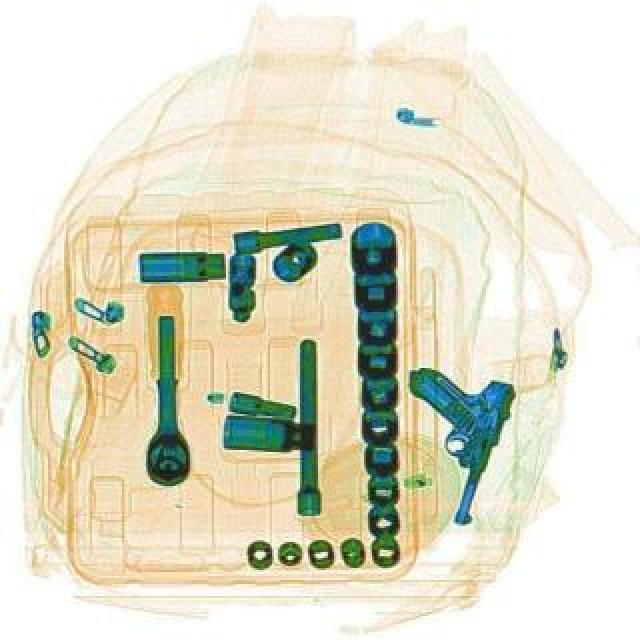gun: (364, 354, 518, 526)
